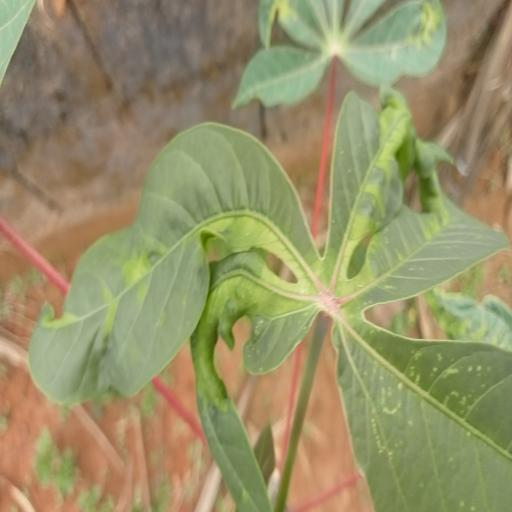Cassava_Mosaic: (26, 85, 512, 512)
